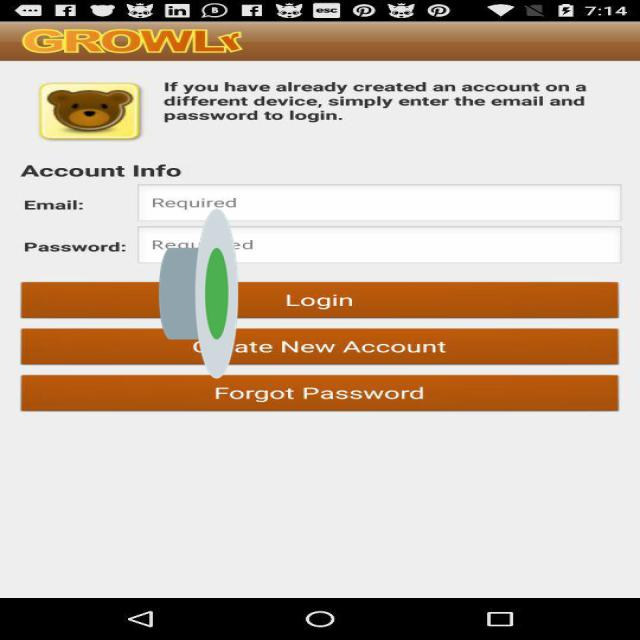social proof: (159, 137, 238, 450)
